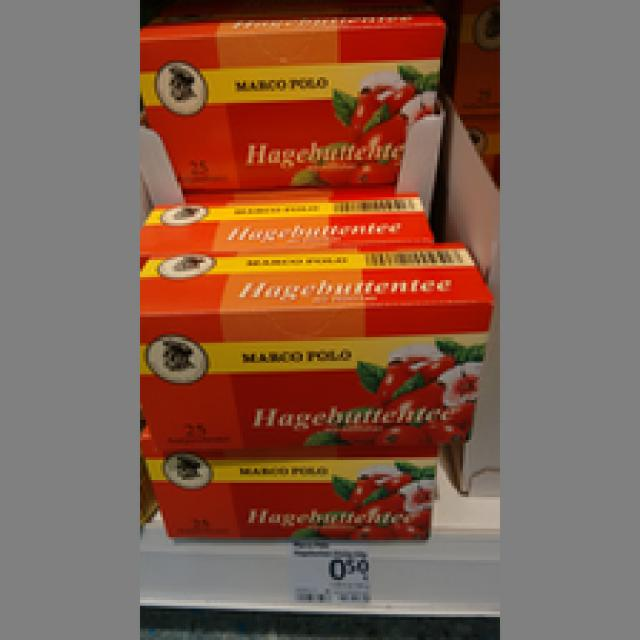groceries: (137, 240, 489, 454), (137, 12, 443, 195), (140, 200, 431, 249)
